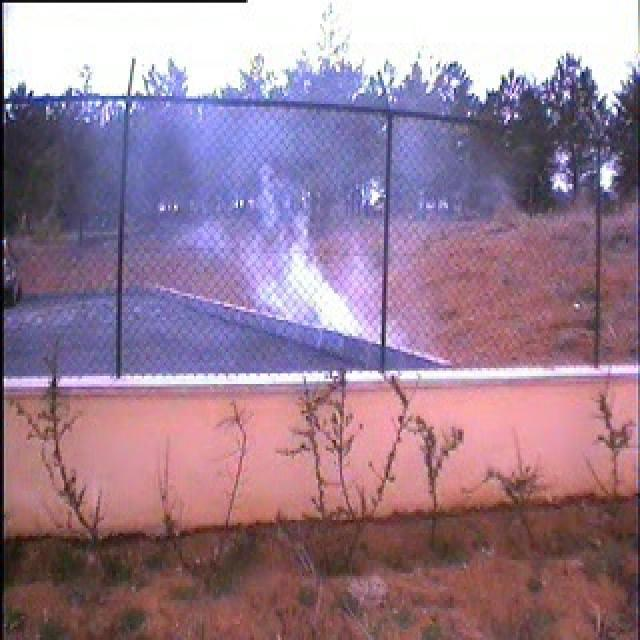Smoke: (63, 76, 531, 362)
